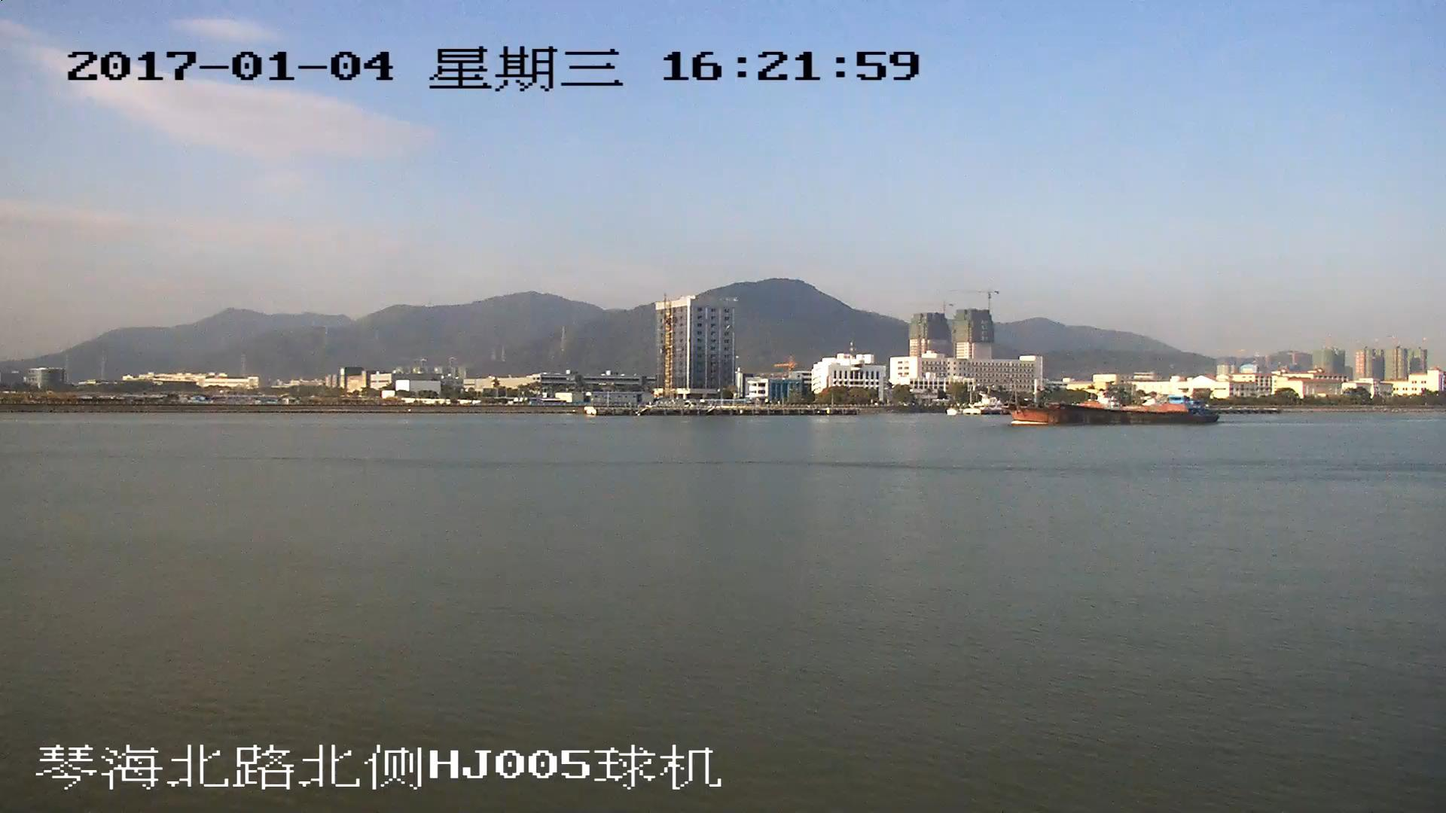bulk cargo carrier: (987, 387, 1219, 425)
